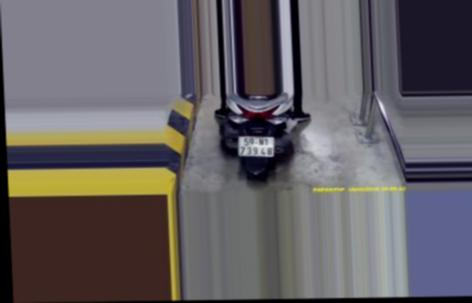License_Plate: (237, 133, 275, 161)
